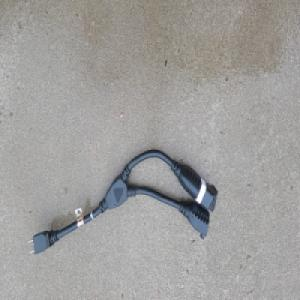Wire: (27, 148, 218, 256)
